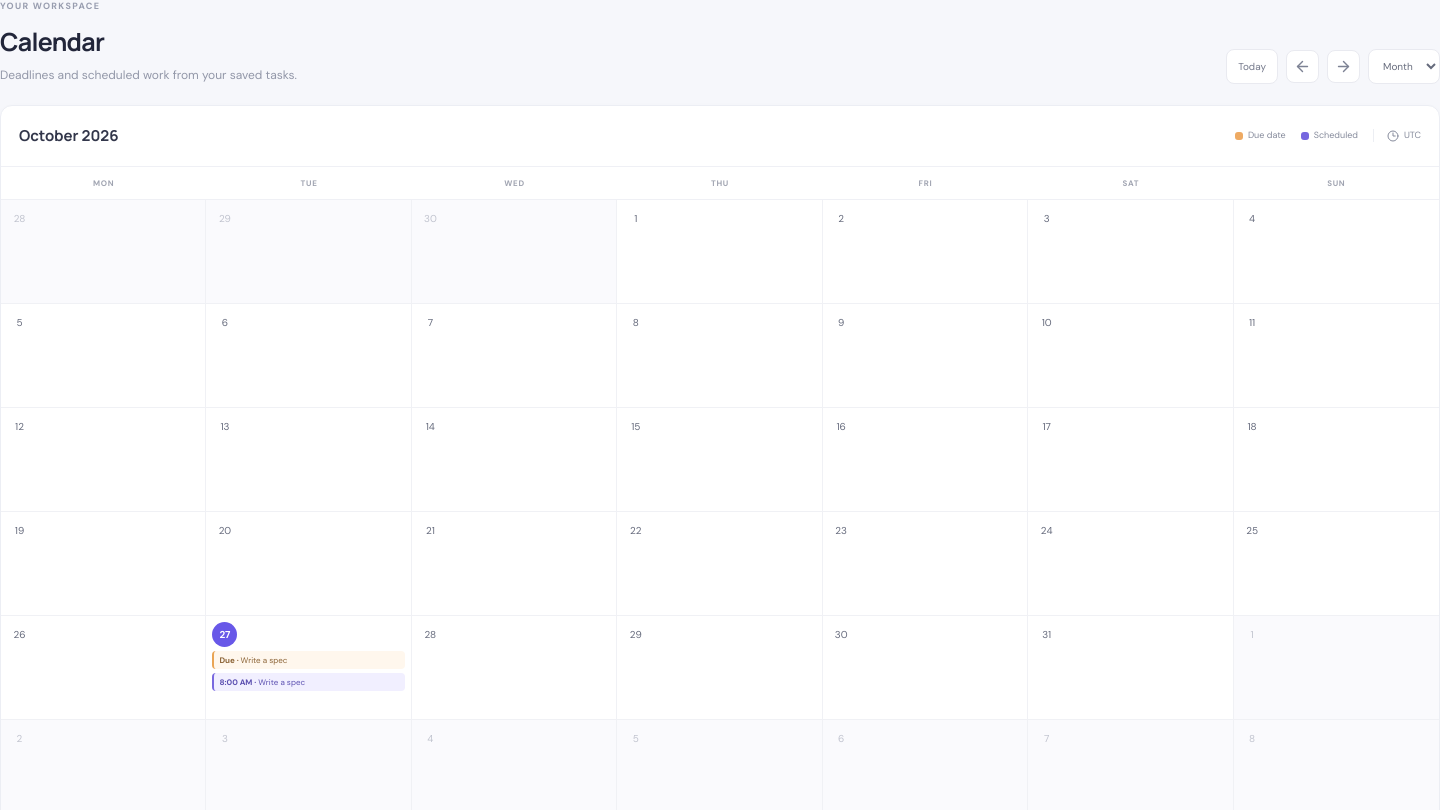
CalendarPage › opens a task and saves changed dates through the task API, then refreshes events
This screenshot has width=1440, height=810.
Click the button "Due · Write a spec" at (309, 660), box [212,650,405,669]
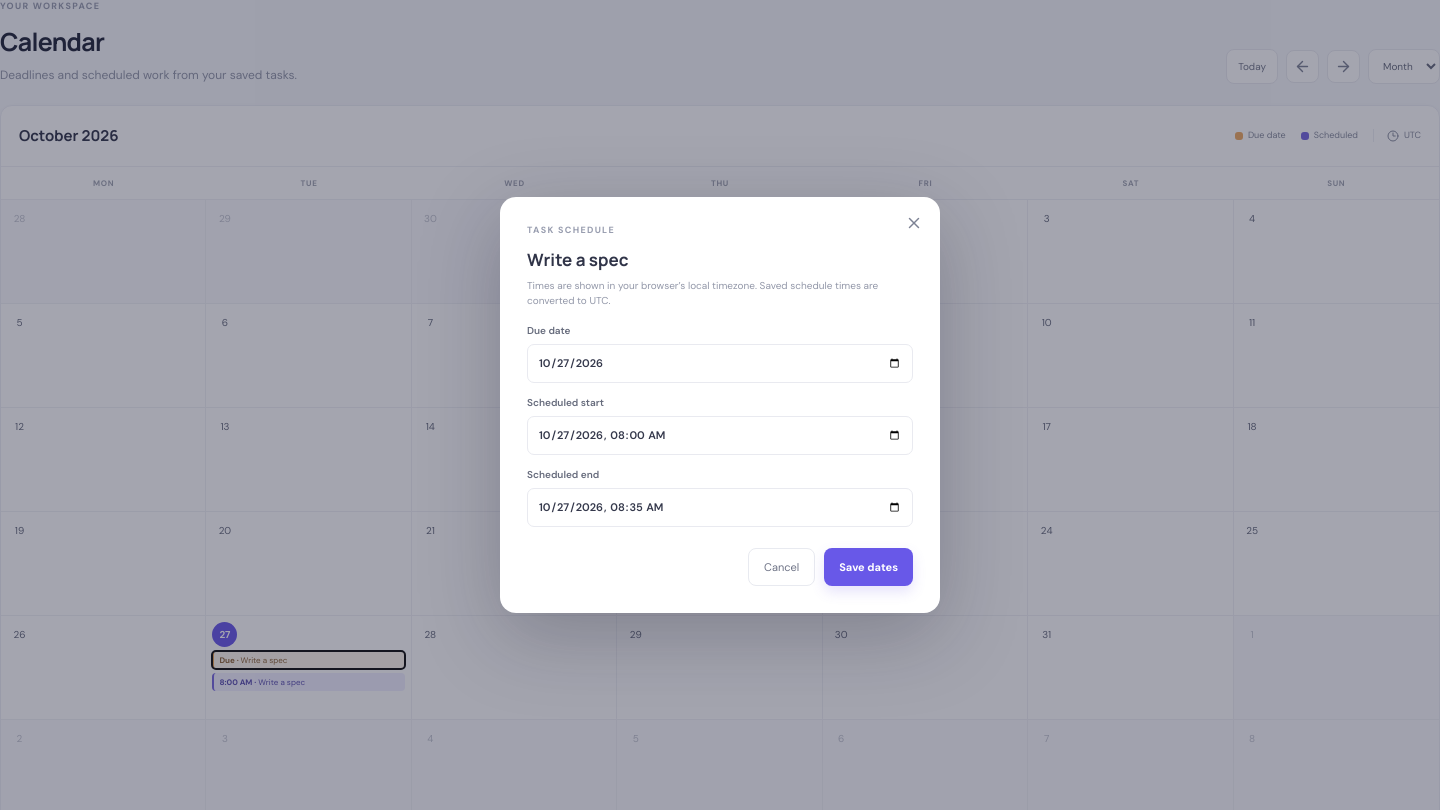
Type "2026-11-05" into the date field labelled "Due date" at (720, 363), box [527,344,913,382]
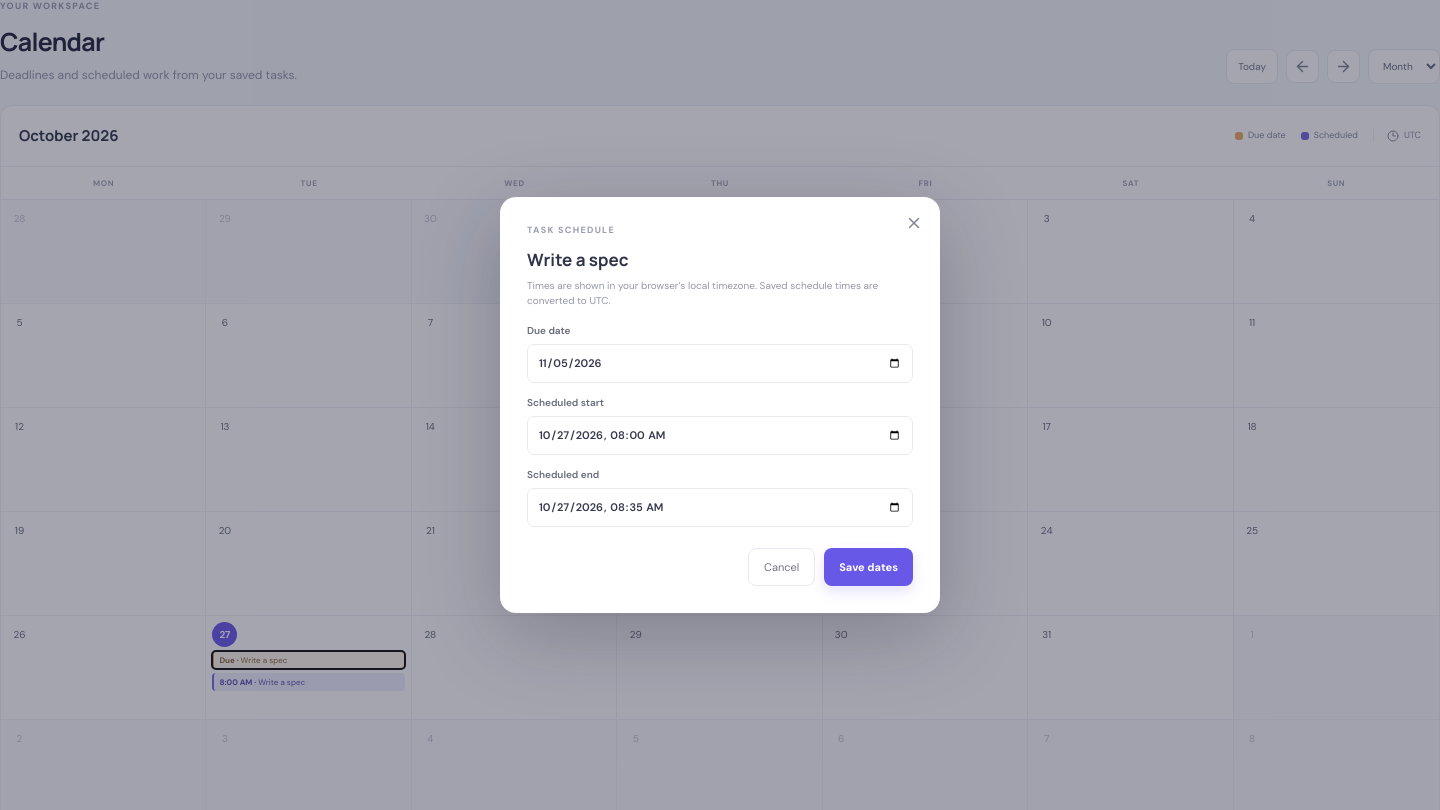
Click the button "Save dates" at (869, 567), box [824,548,913,586]
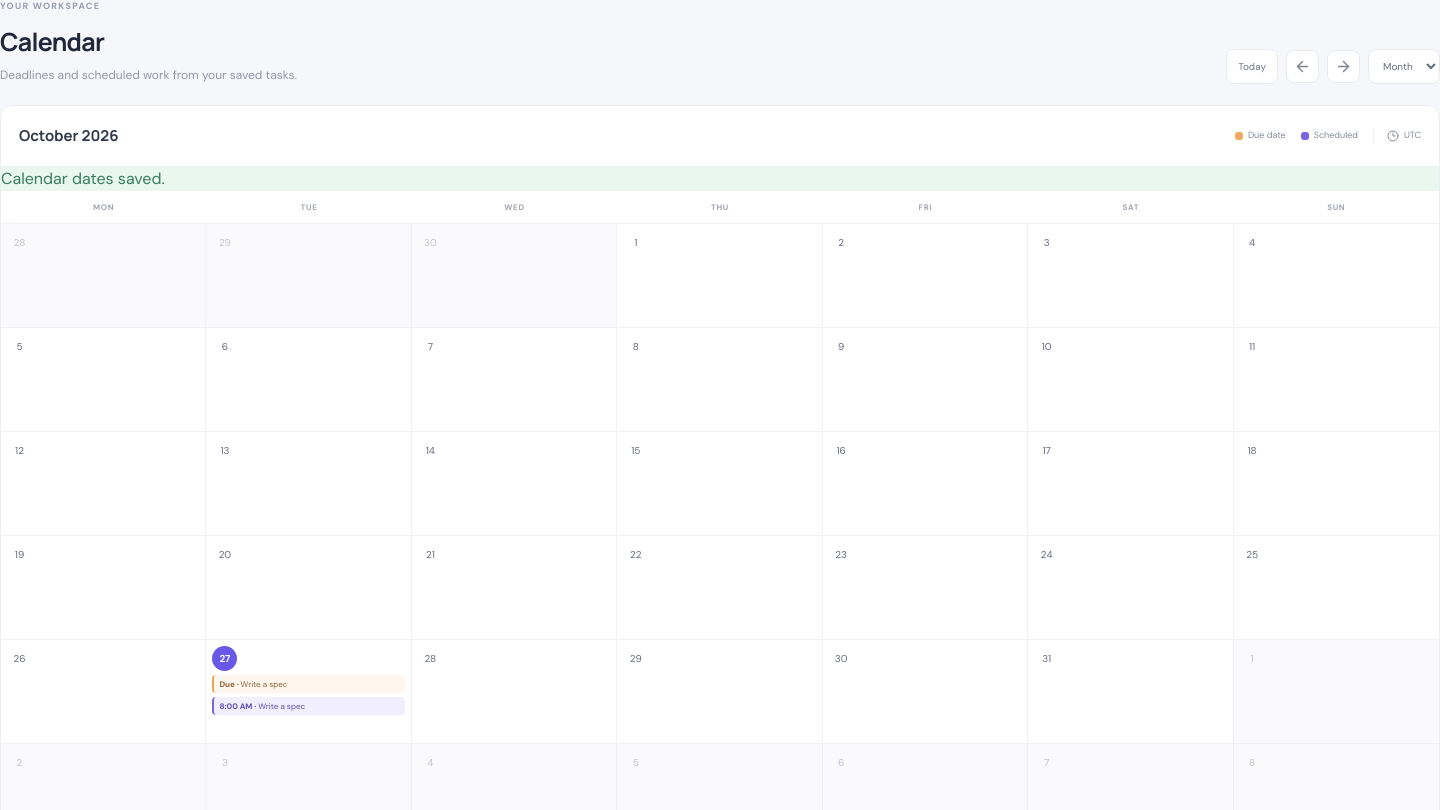
Check: the message reads "Calendar dates saved.", box [1,168,165,188]
